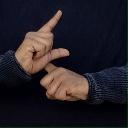hand: (14, 9, 70, 74), (39, 62, 89, 101)
